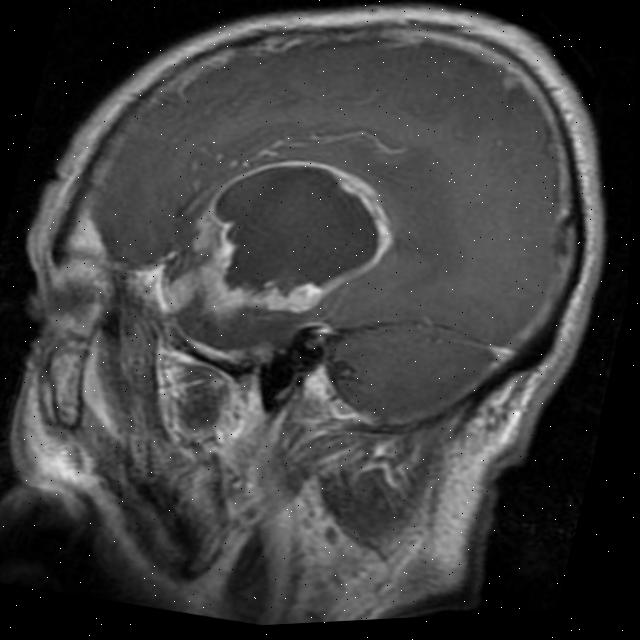Glioma: (182, 136, 413, 338)
